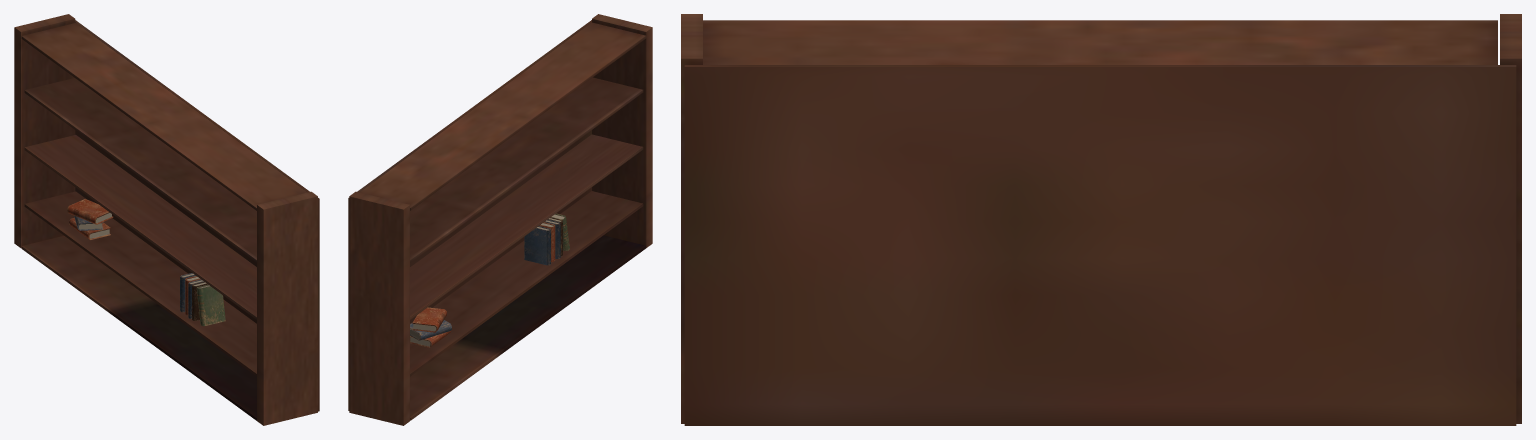
Rendered from BookRack06.fbx.
The picture shows the model from 3 angles, left to right: view 1: azimuth 30°, elevation 25°; view 2: azimuth 150°, elevation 25°; view 3: azimuth 270°, elevation 25°; orthographic projection. The views are drawn at different scales.
Parts seen in each view (by area): view 1: BookRack06; view 2: BookRack06; view 3: BookRack06.
Part boxes in pixels (x1=…): BookRack06: x1=14, y1=14, x2=319, y2=425; BookRack06: x1=348, y1=14, x2=652, y2=425; BookRack06: x1=681, y1=14, x2=1521, y2=425.
Bounding box in the file's own units: 88.45 × 321 × 670.
1 material, 1 textured.
